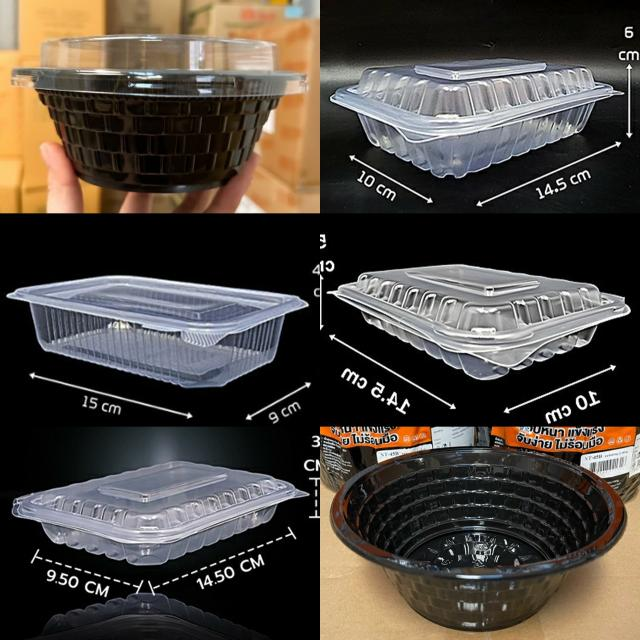plastik: (330, 448, 625, 629), (11, 35, 308, 192), (330, 59, 622, 179), (332, 264, 630, 380), (8, 276, 308, 388), (13, 461, 308, 566)
